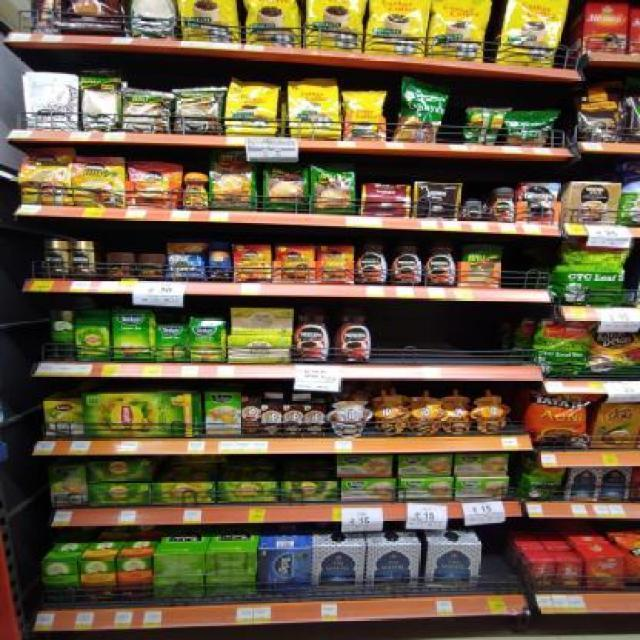Coffee: (20, 149, 72, 205), (74, 159, 125, 206), (335, 304, 374, 362), (295, 305, 334, 361), (132, 162, 180, 206), (355, 238, 389, 285), (390, 239, 424, 285), (425, 239, 458, 284), (519, 184, 558, 222), (70, 240, 96, 278), (181, 173, 208, 208), (44, 240, 68, 277), (491, 188, 516, 220), (462, 201, 485, 220)
